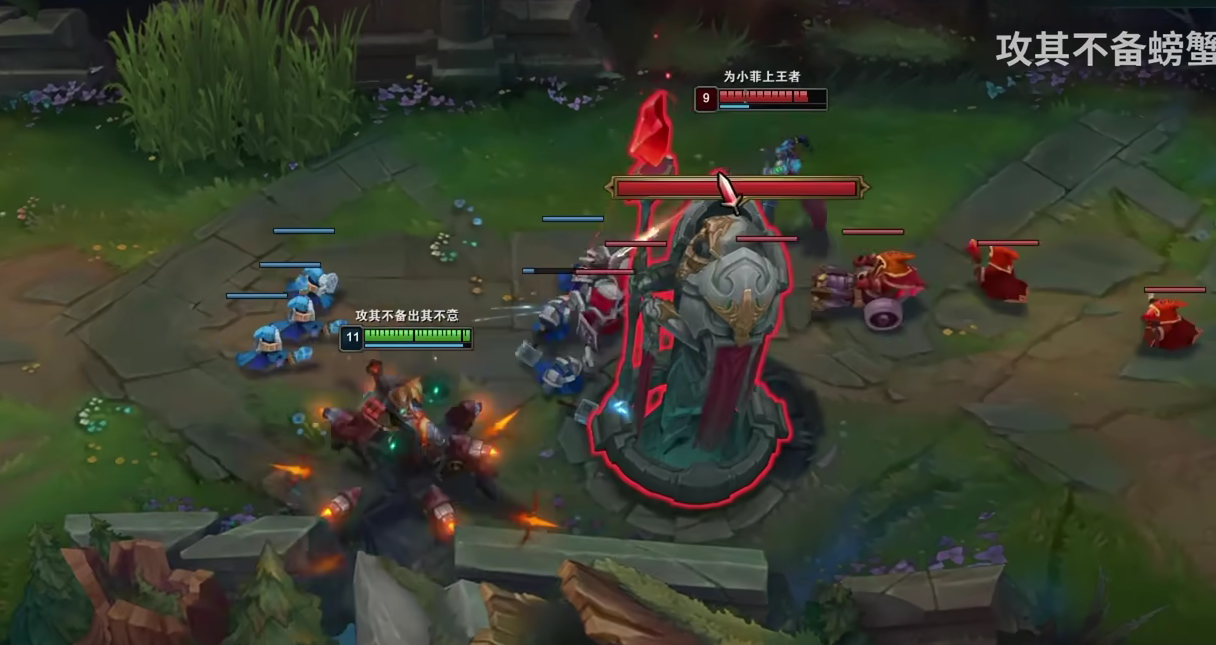ejt: (275, 323, 554, 559)
vn: (680, 71, 839, 260)
